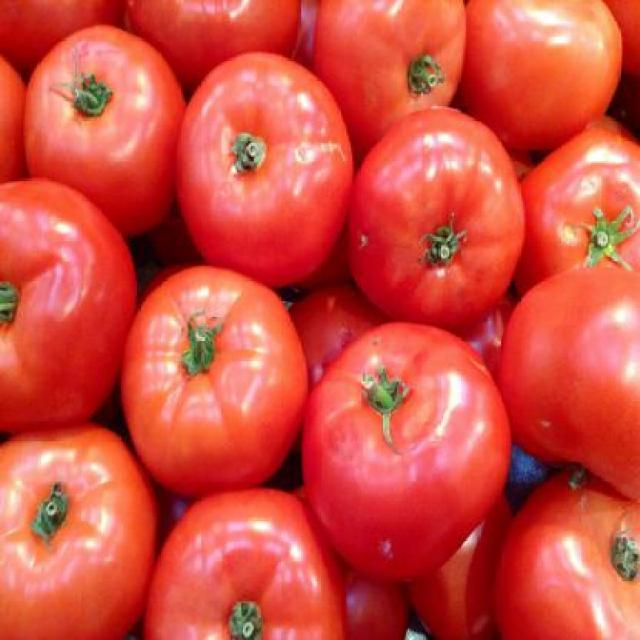Tomato: (0, 0, 638, 638), (175, 64, 356, 286)
